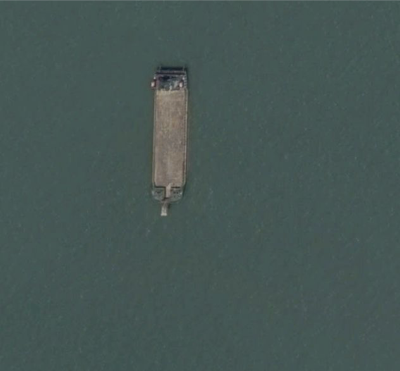boat: (150, 66, 192, 220)
